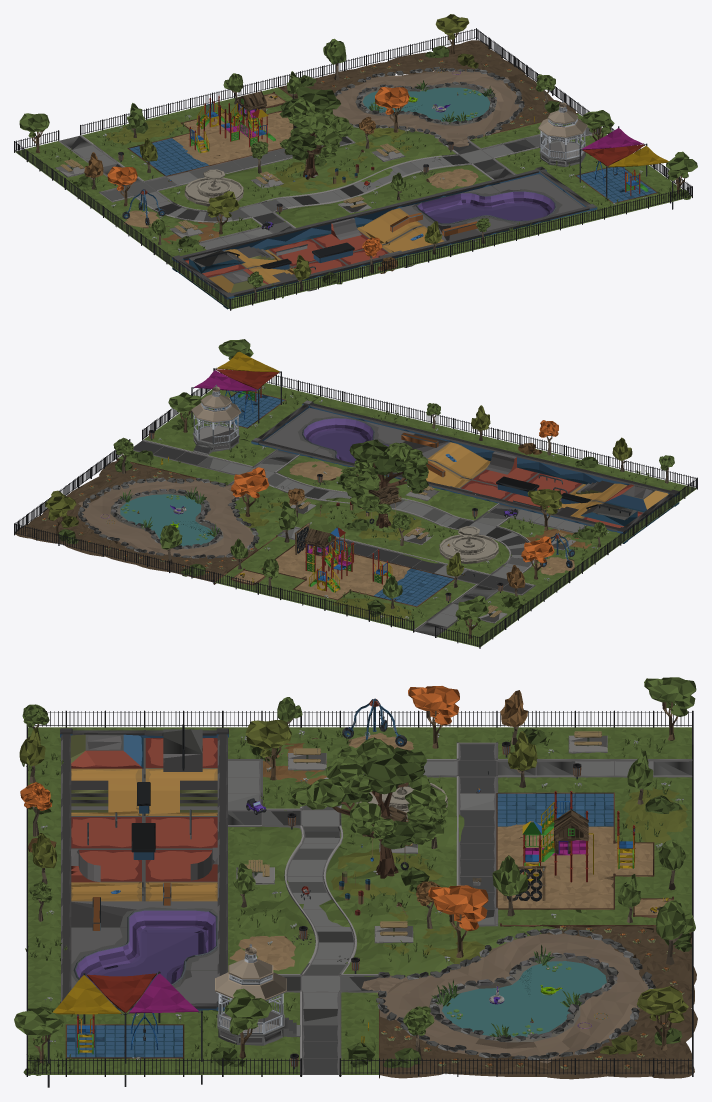
The model's file is park_static.glb.
The picture shows the model from 3 angles, top to bottom: view 1: azimuth 30°, elevation 25°; view 2: azimuth 150°, elevation 25°; view 3: azimuth 270°, elevation 25°; orthographic projection. The views are drawn at different scales.
Visible parts, largest first — view 1: park_static; view 2: park_static; view 3: park_static.
Part boxes in pixels (<box>): park_static: <box>14,14,697,310</box>; park_static: <box>14,339,697,648</box>; park_static: <box>14,677,697,1087</box>.
Size of the model in its own units: 53.35 by 10.47 by 43.67.
